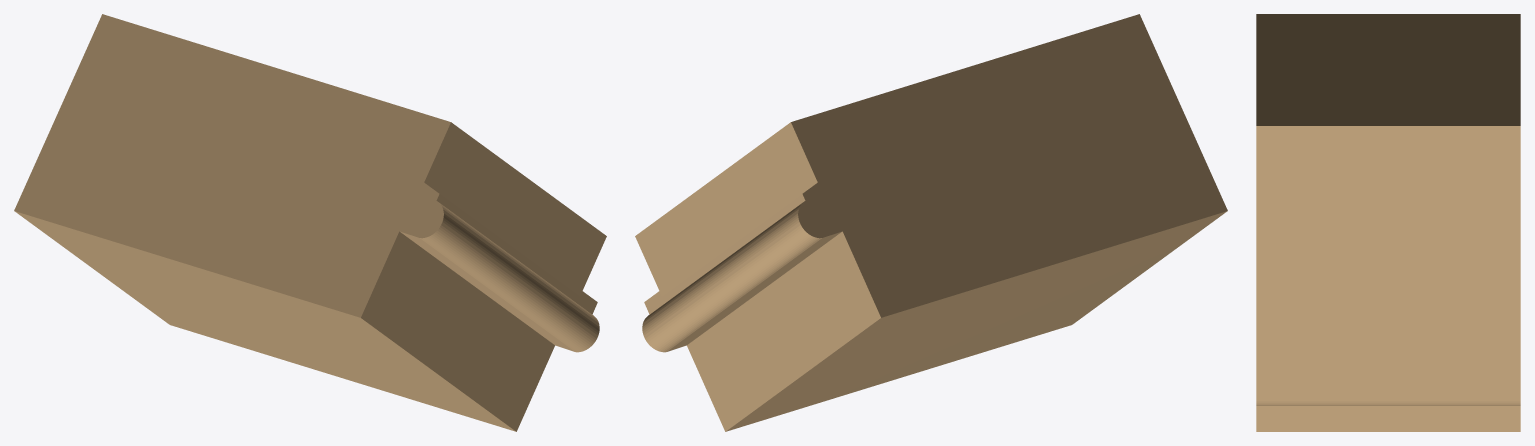
The picture shows the model from 3 angles, left to right: view 1: azimuth 30°, elevation 25°; view 2: azimuth 150°, elevation 25°; view 3: azimuth 270°, elevation 25°; orthographic projection. The views are drawn at different scales.
Visible parts, largest first — view 1: 0_0_2_0_0_1_0_1_0; view 2: 0_0_2_0_0_1_0_1_0; view 3: 0_0_2_0_0_1_0_1_0.
Part boxes in pixels (x1=…): 0_0_2_0_0_1_0_1_0: x1=14, y1=14, x2=606, y2=431; 0_0_2_0_0_1_0_1_0: x1=635, y1=14, x2=1227, y2=431; 0_0_2_0_0_1_0_1_0: x1=1256, y1=14, x2=1520, y2=431.
Size of the model in its own units: 38.86 by 31.18 by 24.
